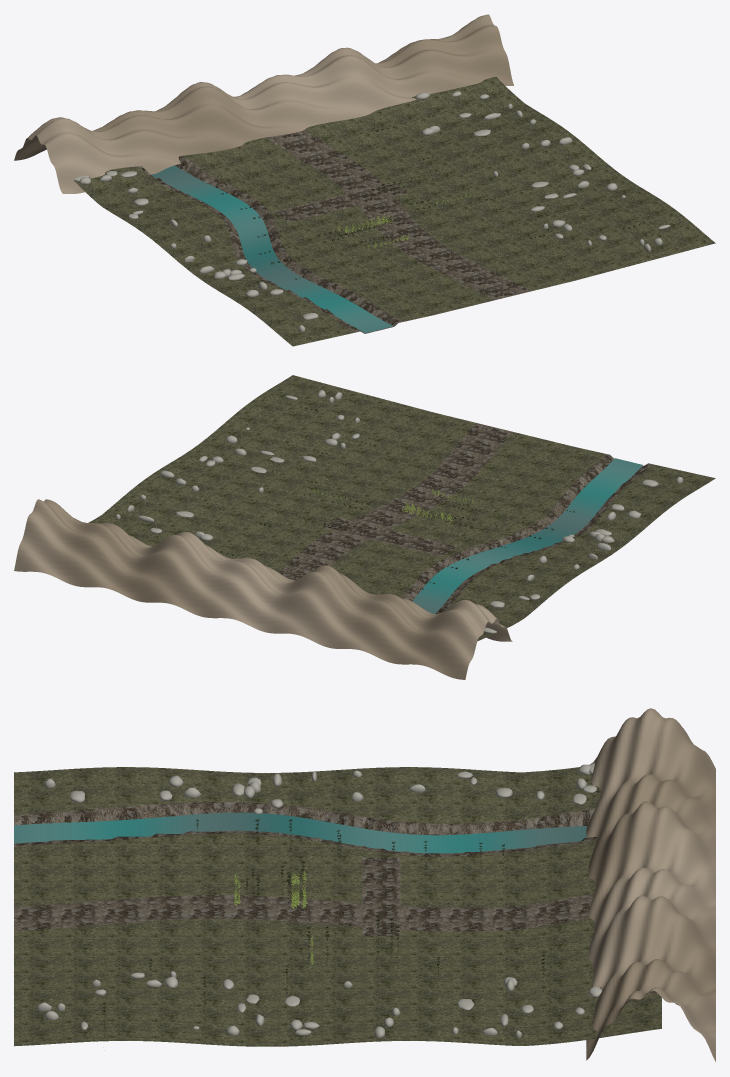
The model's file is environment.glb.
3 views of the same model, one above another, from view 1: azimuth 30°, elevation 25°; view 2: azimuth 150°, elevation 25°; view 3: azimuth 270°, elevation 25° (orthographic). The views are drawn at different scales.
Parts seen in each view (by area): view 1: Illustrative valley terrain, Distant illustrative mountain ridge, Illustrative river ribbon; view 2: Illustrative valley terrain, Distant illustrative mountain ridge, Illustrative river ribbon; view 3: Illustrative valley terrain, Distant illustrative mountain ridge, Illustrative river ribbon.
Part boxes in pixels (x1,y1,x2,y2): Illustrative valley terrain: (74,77,715,346); Distant illustrative mountain ridge: (14,14,513,193); Illustrative river ribbon: (151,165,393,333); Illustrative valley terrain: (89,375,715,641); Distant illustrative mountain ridge: (14,499,512,679); Illustrative river ribbon: (412,458,642,613); Illustrative valley terrain: (14,767,661,1046); Distant illustrative mountain ridge: (586,708,715,1061); Illustrative river ribbon: (14,812,586,853).
Size of what is drawn, in the model's own units: 64 by 7.72 by 65.
Materials: 6 (3 with a texture image).
